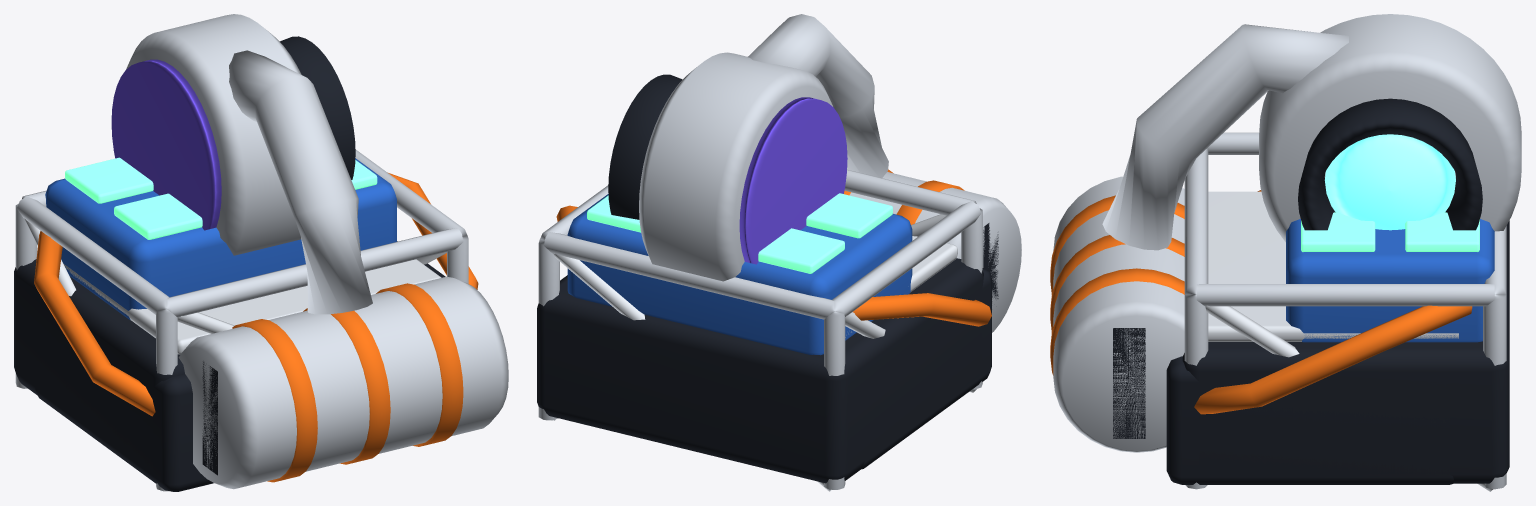
The model's file is parts_engine.glb.
The picture shows the model from 3 angles, left to right: view 1: azimuth 30°, elevation 25°; view 2: azimuth 150°, elevation 25°; view 3: azimuth 270°, elevation 25°; orthographic projection. The views are drawn at different scales.
Visible parts, largest first — view 1: HybridMotor, ChargerPipe, ChargerSnail, HybridPack, ChargerBlock, ChargerHeat, HybridBlock, LightRail_2, HybridCable_-1, ChargerPlate, LightRail_3, HybridRing_2 (+12 smaller); view 2: ChargerBlock, ChargerSnail, HybridPack, ChargerHeat, ChargerPipe, LightRail_0, ChargerInlet, HybridMotor, LightRail_3, HybridCable_-1, LightRail_2, HybridCell_0_0 (+12 smaller); view 3: ChargerBlock, ChargerSnail, HybridMotor, HybridBlock, ChargerPipe, HybridPack, ChargerInlet, ChargerWheel, ChargerPlate, HybridCable_1, LightRail_1, ChargerCooler (+11 smaller).
Boxes of the visible parts, bbox=[...] form: HybridMotor: bbox=[178, 276, 508, 489]; ChargerPipe: bbox=[229, 50, 372, 314]; ChargerSnail: bbox=[126, 14, 301, 255]; HybridPack: bbox=[45, 158, 396, 319]; ChargerBlock: bbox=[14, 241, 445, 472]; ChargerHeat: bbox=[111, 59, 221, 230]; HybridBlock: bbox=[35, 302, 213, 491]; LightRail_2: bbox=[166, 228, 463, 317]; HybridCable_-1: bbox=[34, 231, 155, 416]; ChargerPlate: bbox=[63, 259, 441, 354]; LightRail_3: bbox=[17, 196, 169, 314]; HybridRing_2: bbox=[376, 283, 463, 446]; ChargerBlock: bbox=[537, 258, 983, 483]; ChargerSnail: bbox=[639, 52, 832, 281]; HybridPack: bbox=[567, 194, 912, 355]; ChargerHeat: bbox=[739, 97, 847, 264]; ChargerPipe: bbox=[748, 14, 888, 177]; LightRail_0: bbox=[544, 232, 834, 319]; ChargerInlet: bbox=[608, 74, 682, 219]; HybridMotor: bbox=[849, 172, 1021, 332]; LightRail_3: bbox=[832, 201, 981, 316]; HybridCable_-1: bbox=[853, 293, 991, 326]; LightRail_2: bbox=[844, 169, 976, 215]; HybridCell_0_0: bbox=[758, 228, 844, 273]; ChargerBlock: bbox=[1182, 220, 1509, 483]; ChargerSnail: bbox=[1259, 14, 1521, 242]; HybridMotor: bbox=[1053, 176, 1184, 452]; HybridBlock: bbox=[1166, 356, 1453, 484]; ChargerPipe: bbox=[1102, 24, 1348, 250]; HybridPack: bbox=[1286, 219, 1494, 342]; ChargerInlet: bbox=[1298, 98, 1482, 230]; ChargerWheel: bbox=[1324, 134, 1455, 230]; ChargerPlate: bbox=[1208, 191, 1458, 341]; HybridCable_1: bbox=[1194, 305, 1472, 414]; LightRail_1: bbox=[1196, 284, 1494, 306]; ChargerCooler: bbox=[1113, 328, 1145, 438].
Size of the model in its own units: 0.3175 by 0.2861 by 0.316.
